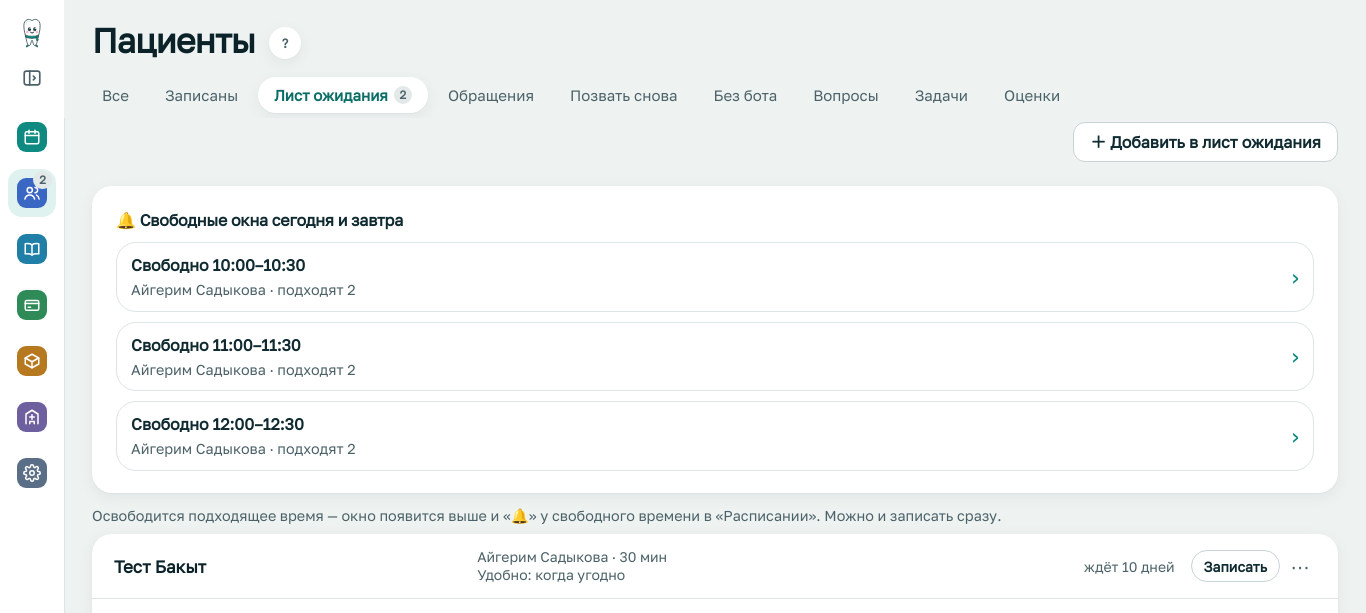
Test: больше двух окон — каждое свёрнуто строкой «время · врач · подходят N ›»; нажать — пациенты и кнопки (вверху «Листа ожидания»)
What coordinates should you click on to do the following:
click the button "Свободно 10:00–10:30 Айгерим Садыкова · подходят 2 ›"
I would click on:
 (218, 265)
Its box is [117, 243, 1313, 311].
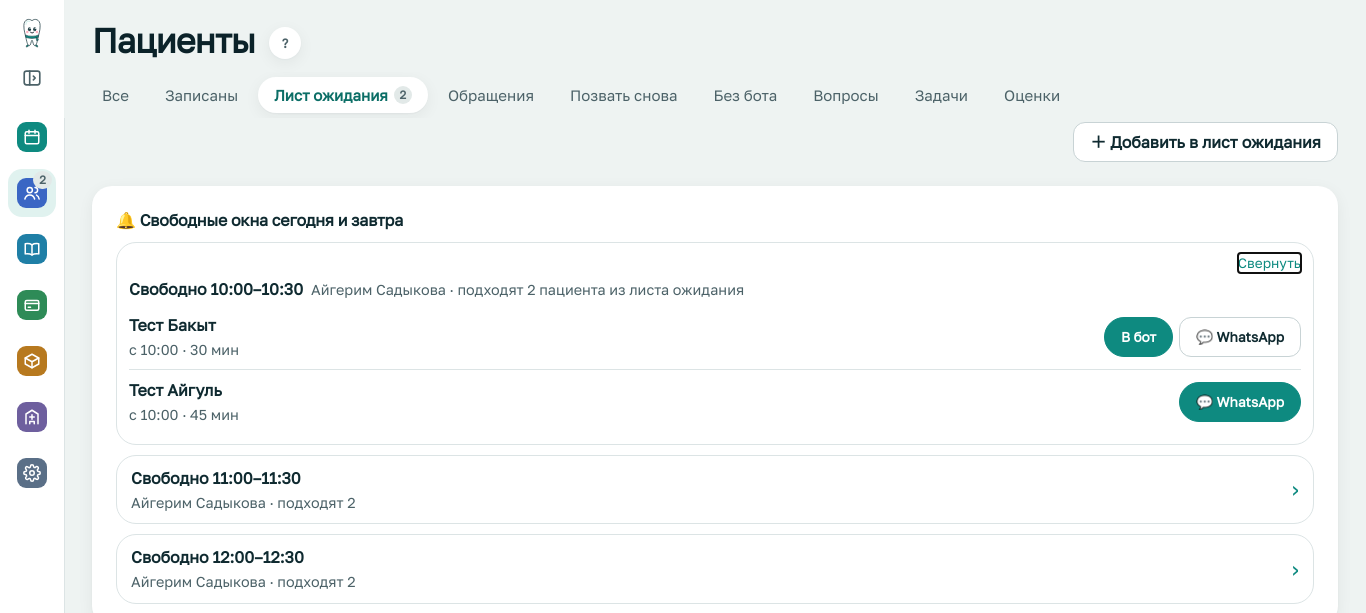
Expected: the button with aria-label "Предложить в бот: Тест Бакыт" is shown, [1104, 317, 1173, 357]
